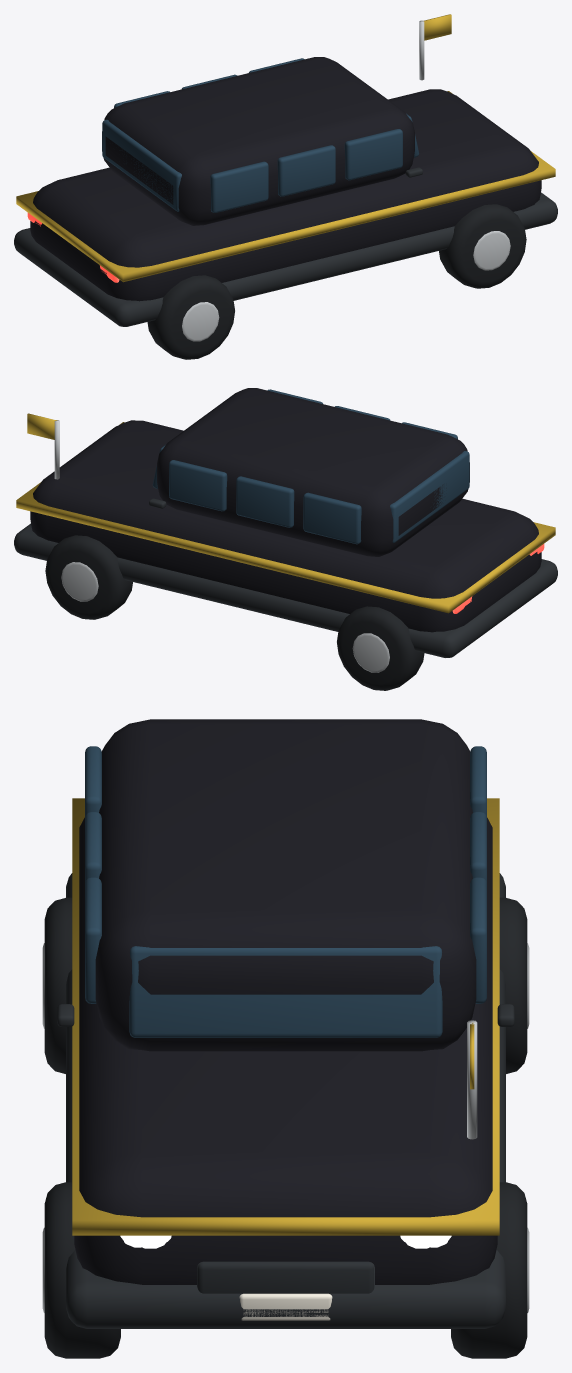
The model's file is car_vip.glb.
The picture shows the model from 3 angles, top to bottom: view 1: azimuth 30°, elevation 25°; view 2: azimuth 150°, elevation 25°; view 3: azimuth 270°, elevation 25°; orthographic projection. The views are drawn at different scales.
Parts seen in each view (by area): view 1: car_vip; view 2: car_vip; view 3: car_vip.
Part boxes in pixels (box(x1,y1,x2,y2)): car_vip: box(14, 14, 557, 359); car_vip: box(14, 388, 557, 690); car_vip: box(42, 719, 529, 1358).
Size of the model in its own units: 2.41 by 0.95 by 1.15.
3 materials, 3 textured.
